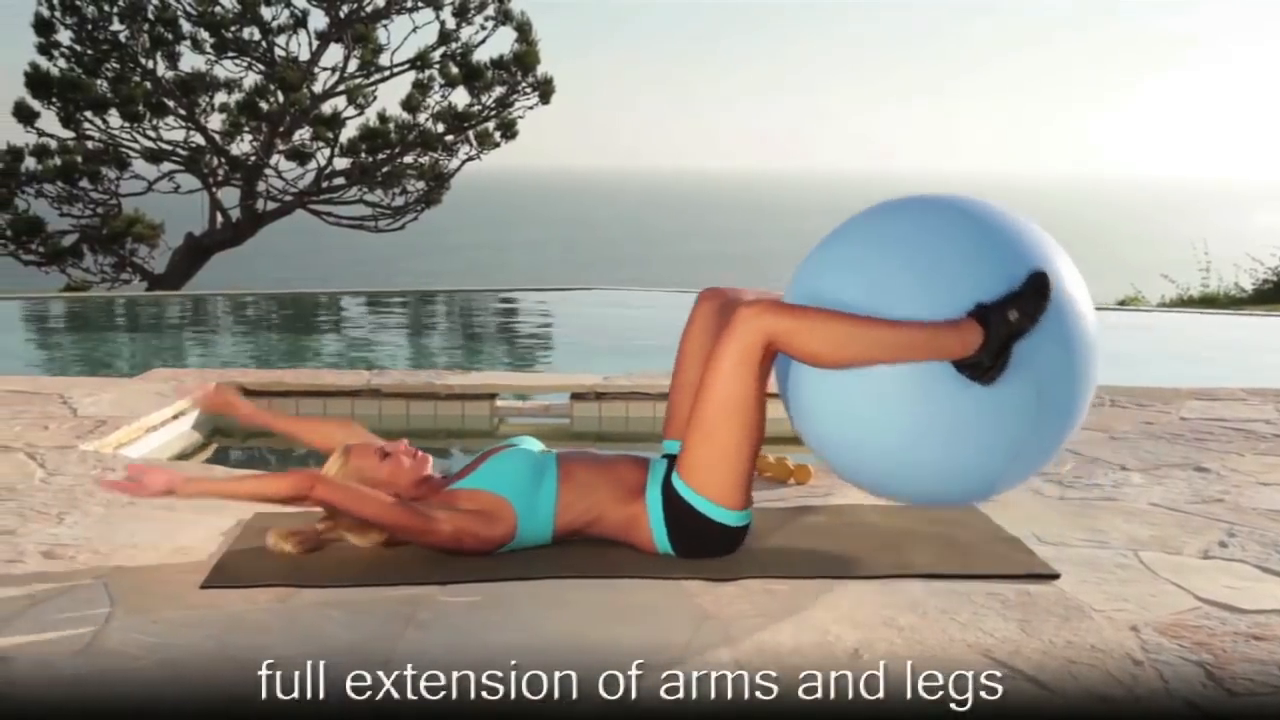yogaball: (769, 187, 1107, 511)
